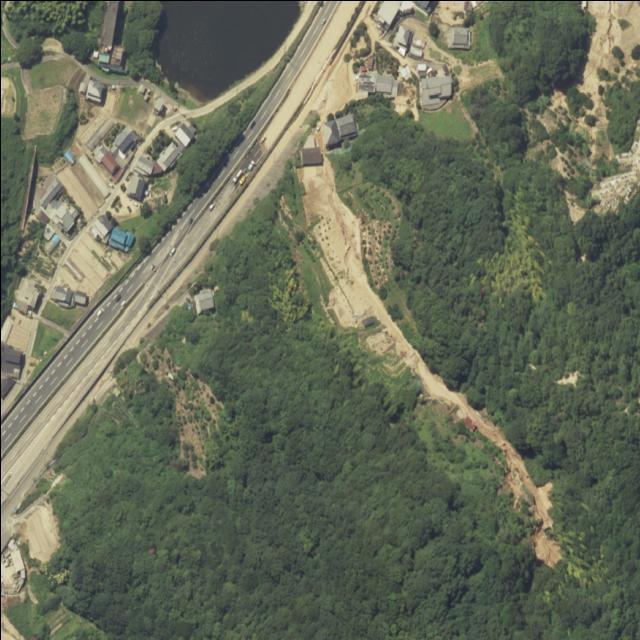landslide: (295, 157, 560, 566), (530, 0, 640, 212)
